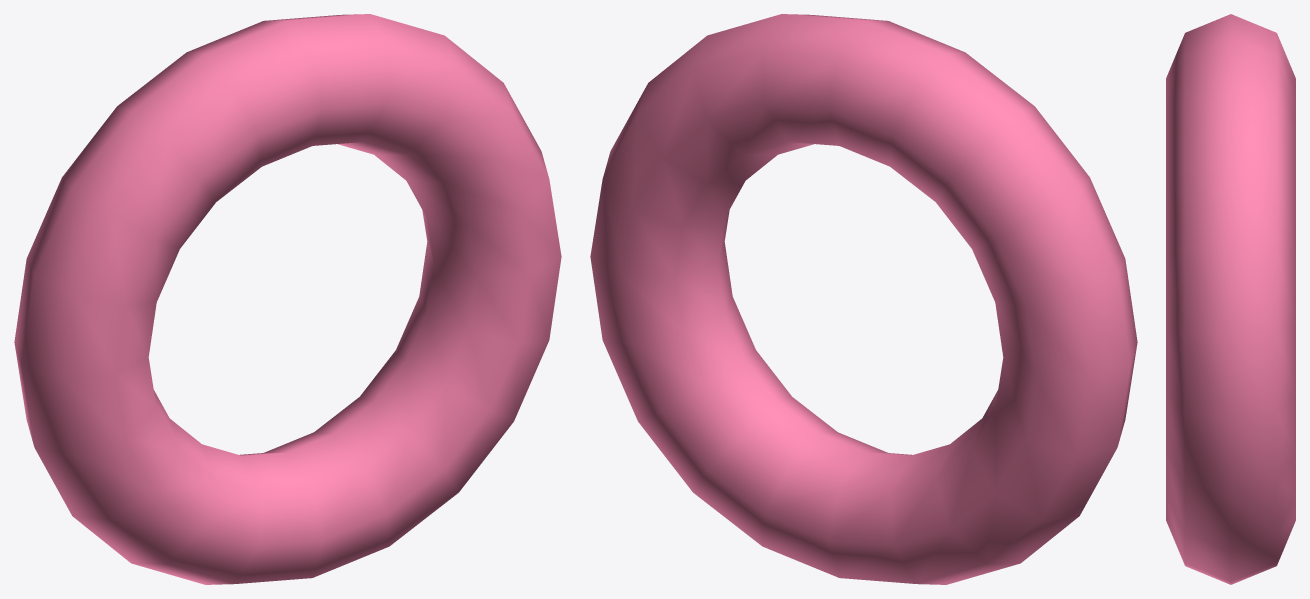
The picture shows the model from 3 angles, left to right: view 1: azimuth 30°, elevation 25°; view 2: azimuth 150°, elevation 25°; view 3: azimuth 270°, elevation 25°; orthographic projection. The views are drawn at different scales.
Bounding box in the file's own units: 1.24 × 1.24 × 0.28.
